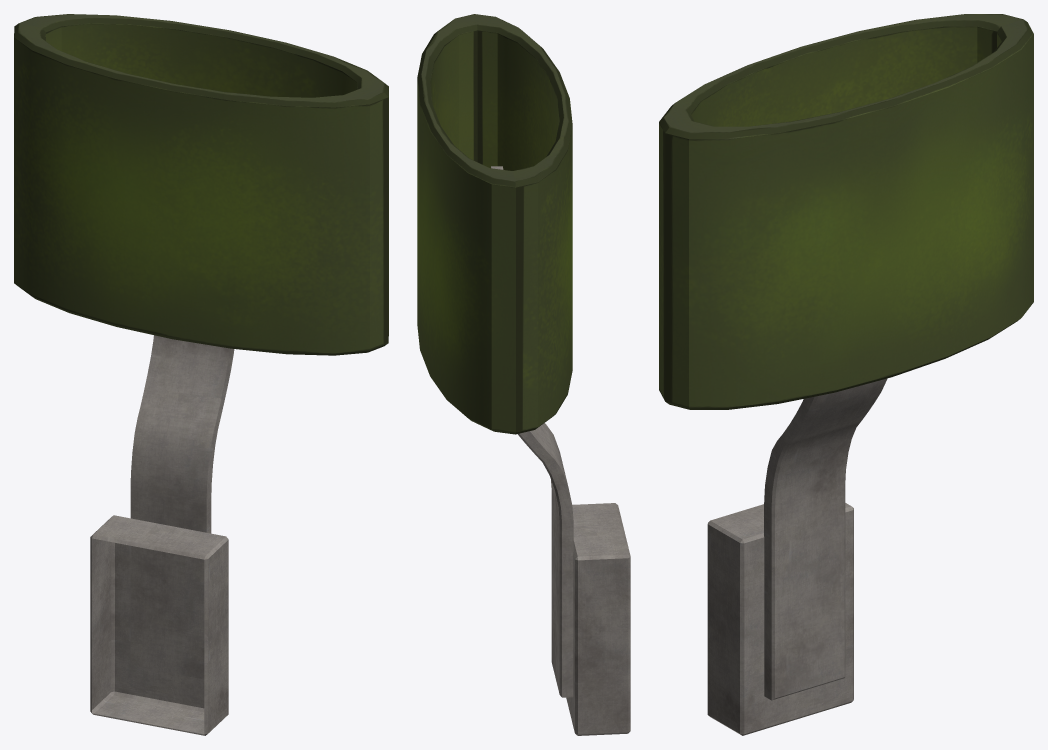
The model's file is lampModel.fbx.
3 views of the same model, side by side, from view 1: azimuth 30°, elevation 25°; view 2: azimuth 150°, elevation 25°; view 3: azimuth 270°, elevation 25° (orthographic). The views are drawn at different scales.
Visible parts, largest first — view 1: lamp03; view 2: lamp03; view 3: lamp03.
Part boxes in pixels (left/top/right/bottom): lamp03: left=14, top=14, right=388, bottom=735; lamp03: left=417, top=14, right=630, bottom=735; lamp03: left=659, top=14, right=1033, bottom=735.
Size of the model in its own units: 11.4 by 28.25 by 14.22.
